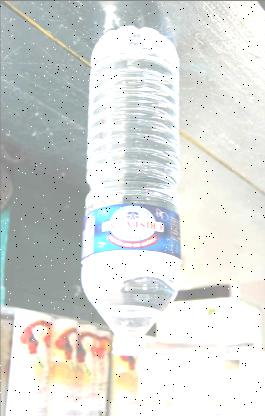Plastic Bottle: (80, 26, 182, 356)
